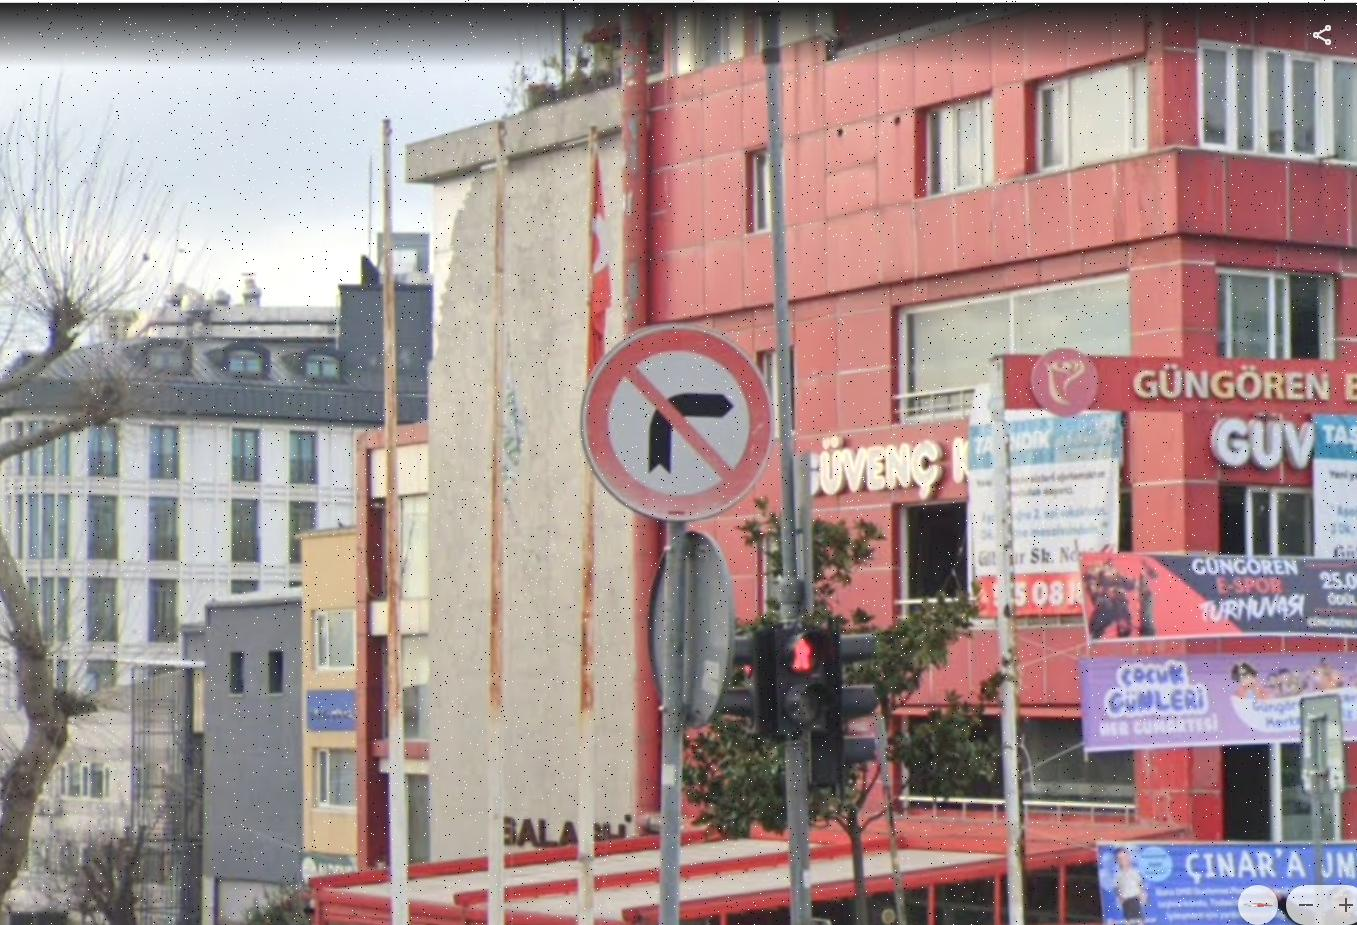rightturnsareforbidden: (595, 333, 759, 505)
